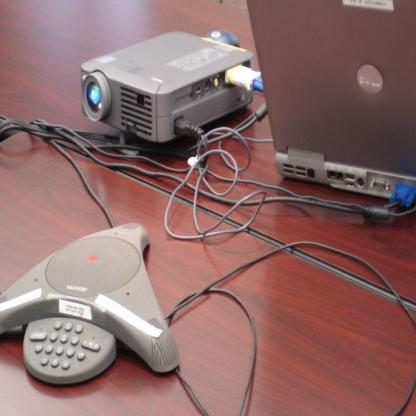board: (241, 0, 416, 211)
